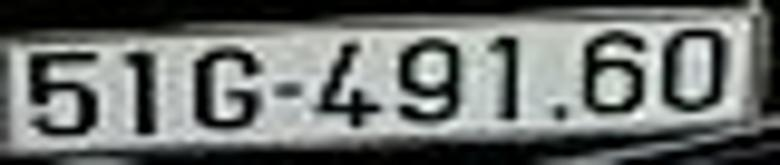-: (272, 81, 301, 95)
.: (553, 107, 567, 120)
0: (663, 26, 725, 111)
1: (127, 47, 159, 134), (492, 36, 520, 122)
4: (319, 39, 380, 128)
5: (30, 52, 98, 135)
6: (584, 27, 642, 114)
9: (398, 35, 461, 124)
G: (196, 44, 256, 129)
